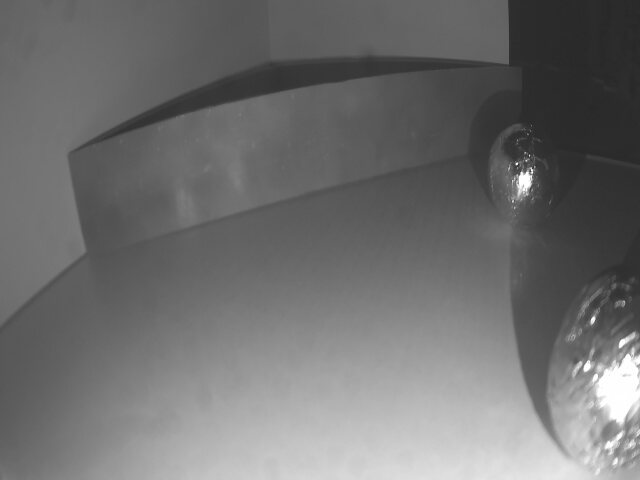Green: (66, 70, 524, 259)
Live: (549, 263, 640, 479), (489, 123, 565, 226)
